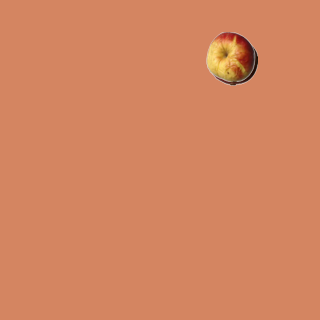Apple Braeburn: (207, 35, 257, 85)
Apple Red Yellow 1: (205, 31, 255, 81)
